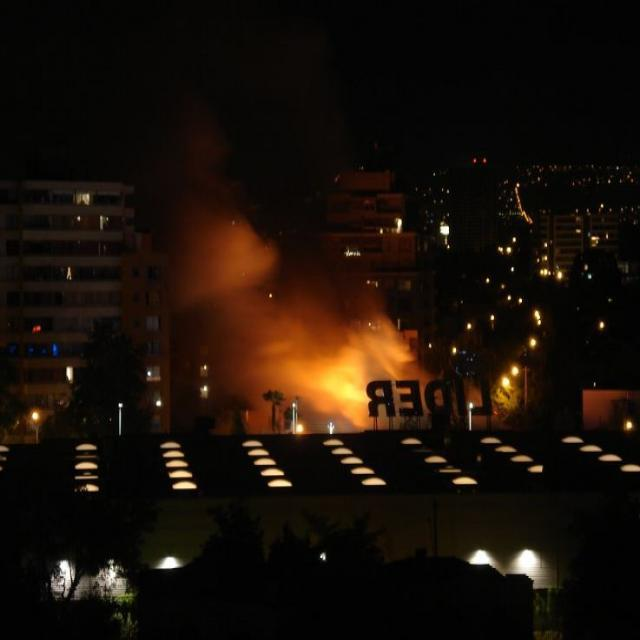Fire: (262, 320, 386, 425)
